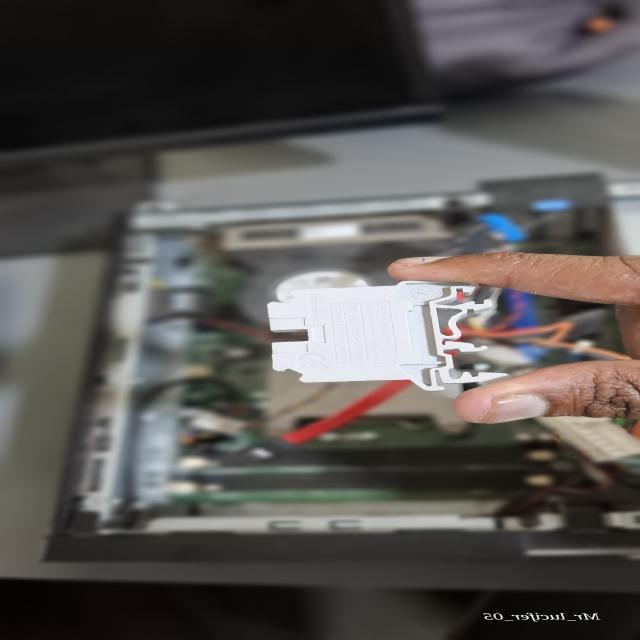Inverted: (266, 278, 509, 398)
